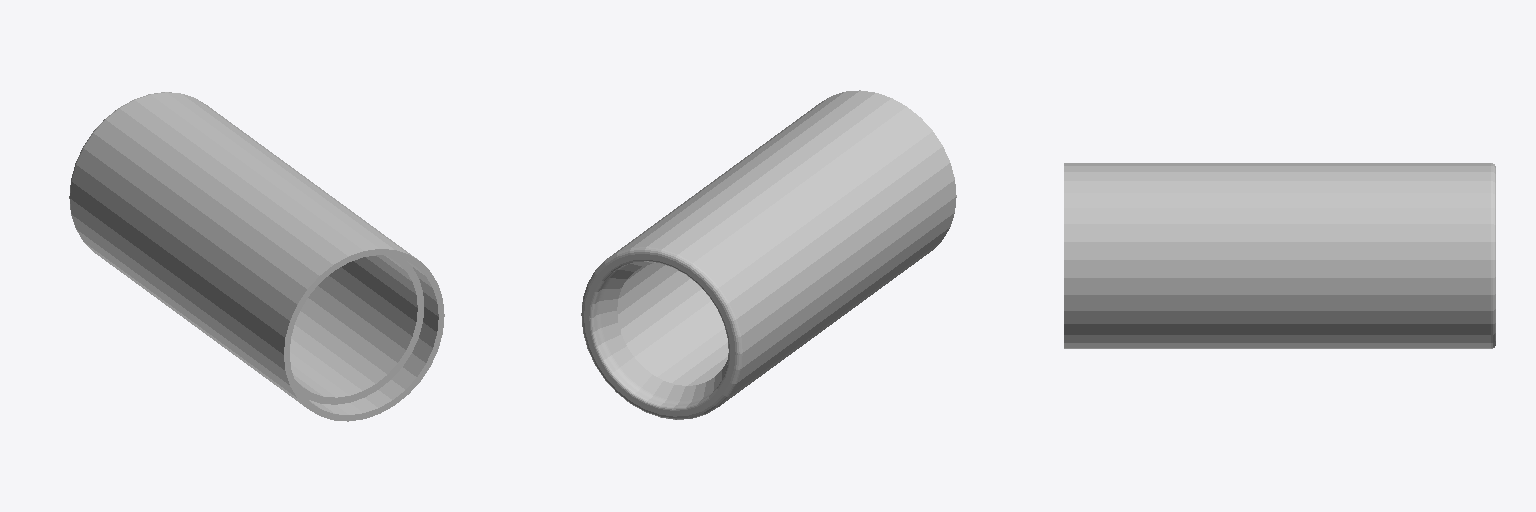
File: glass_thing.obj
The picture shows the model from 3 angles: view 1: azimuth 30°, elevation 25°; view 2: azimuth 150°, elevation 25°; view 3: azimuth 270°, elevation 25°; orthographic projection.
Parts seen in each view (by area): view 1: Крышка; view 2: Крышка; view 3: Крышка.
Part boxes in pixels (left/top/right/bottom): Крышка: left=69, top=92, right=444, bottom=421; Крышка: left=581, top=90, right=956, bottom=419; Крышка: left=1064, top=163, right=1495, bottom=348.
Size of the model in its own units: 2 by 2 by 4.66.